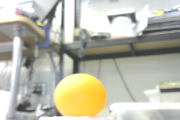PingPongBall: (55, 74, 106, 117)
